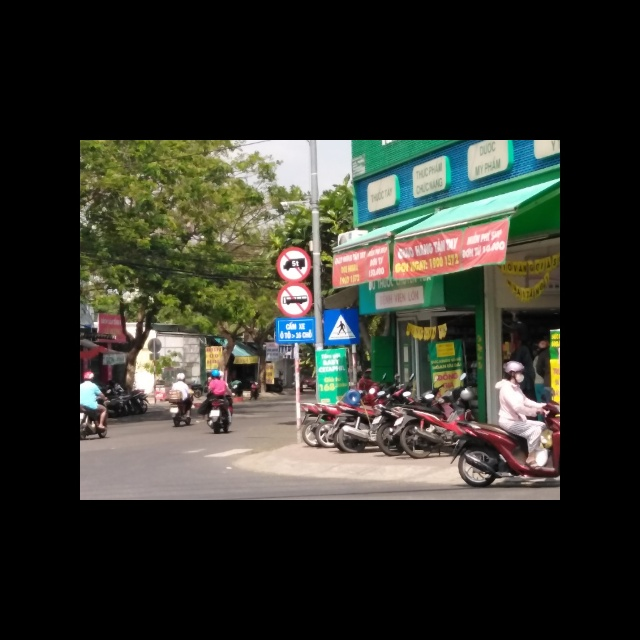Cấm xe tải: (276, 247, 312, 284)
Cấm xe xe khách: (277, 282, 314, 319)
Đường dành cho người đi bộ: (323, 309, 360, 346)
